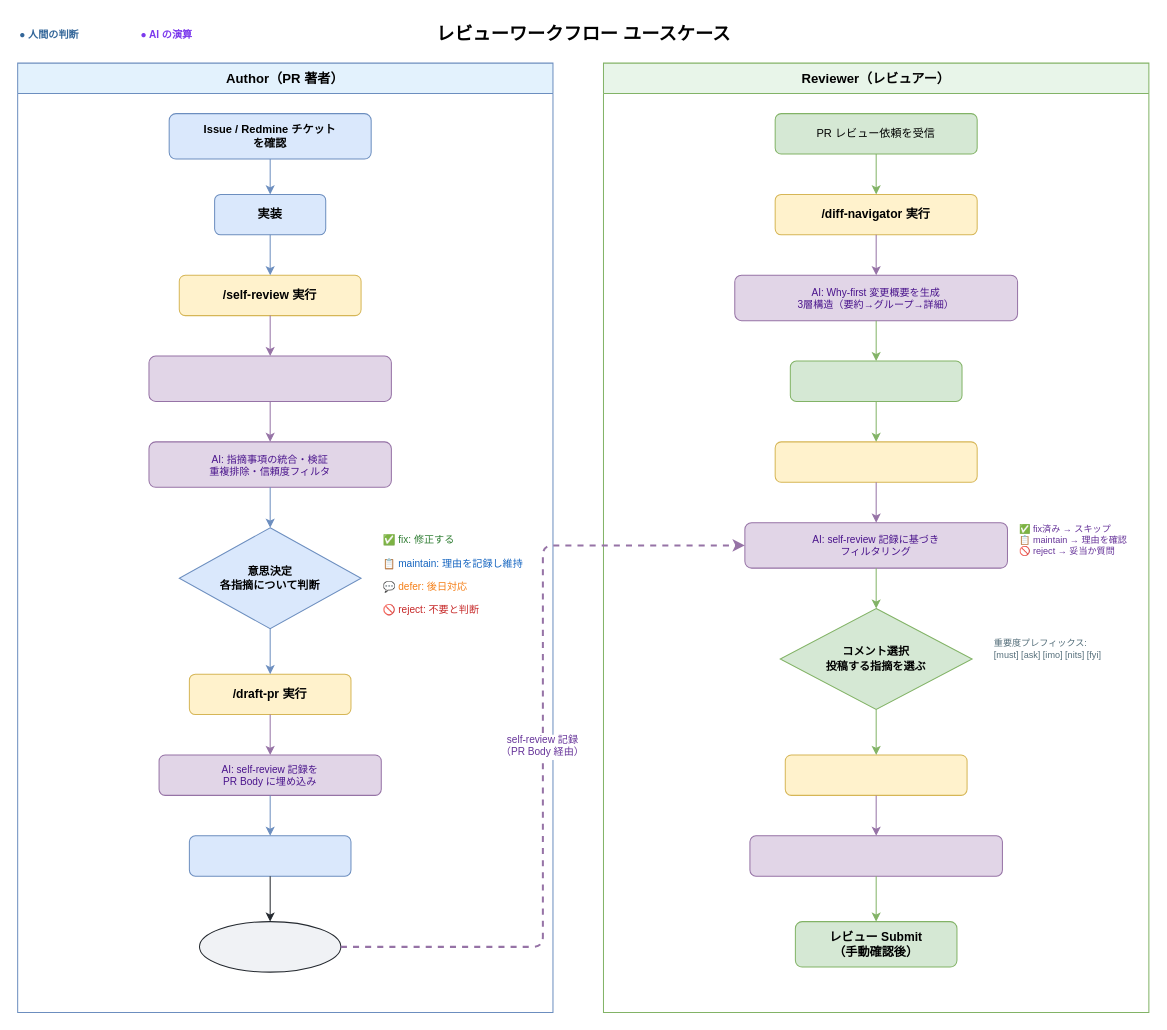
Image size: 1167x1030. Some labels were removed from this diagram. Each missing label, with the centre of its shape:
/peer-review 実行: [875,461]
/post-review 実行: [875,774]
AI: 6〜9 エージェントが 並列分析: [269,378]
AI: Pending Review として GitHub に投稿: [875,855]
GitHub PR: [269,946]
PR 作成・push: [269,855]
変更内容の理解: [875,380]
